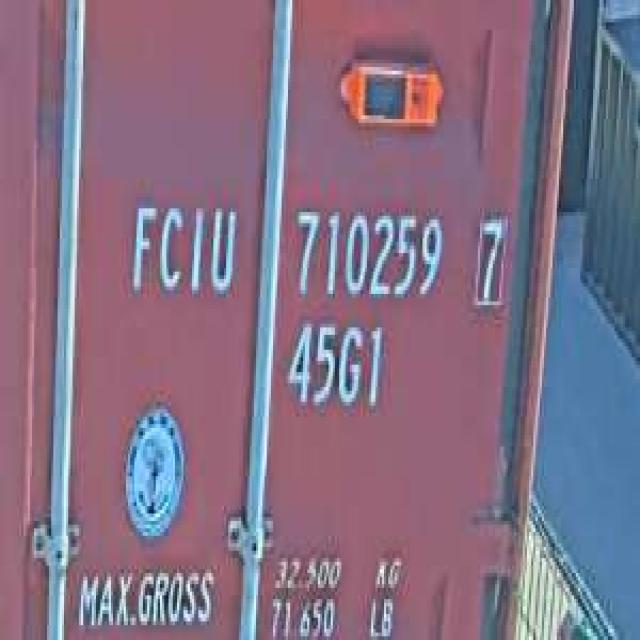dv: (469, 201, 512, 316)
owner: (122, 190, 239, 309)
serial: (286, 201, 448, 309)
size: (282, 312, 386, 420)
